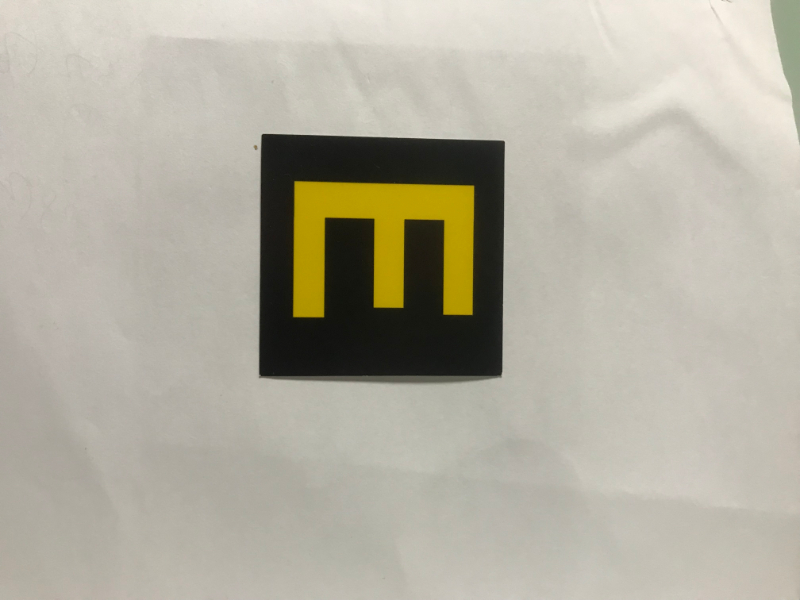E-15: (268, 144, 497, 372)
